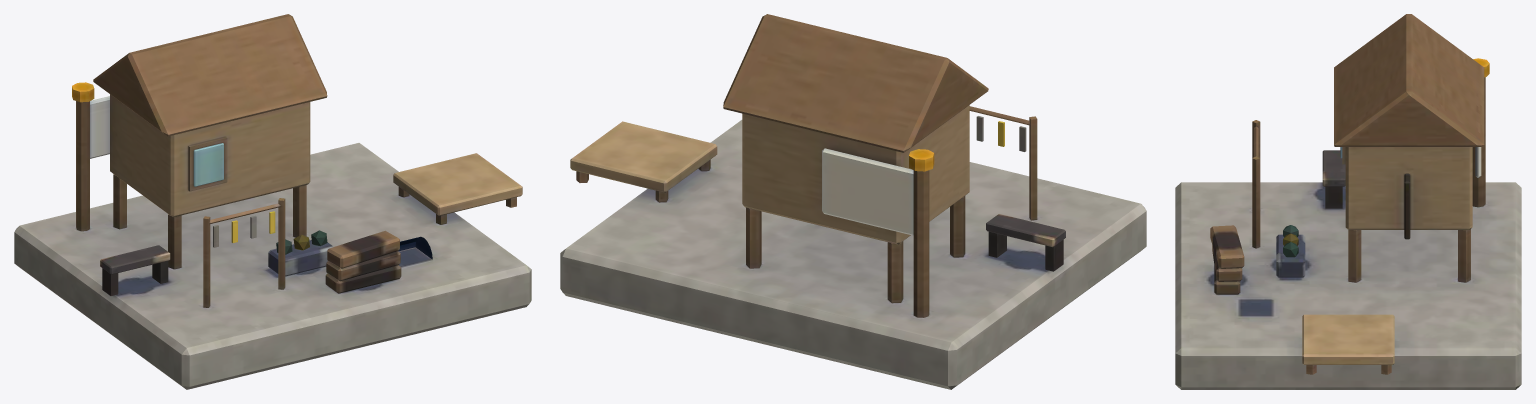
Rendered from fishery-5.glb.
The picture shows the model from 3 angles, left to right: view 1: azimuth 30°, elevation 25°; view 2: azimuth 150°, elevation 25°; view 3: azimuth 270°, elevation 25°; orthographic projection. The views are drawn at different scales.
Visible parts, largest first — view 1: fishery-5; view 2: fishery-5; view 3: fishery-5.
Part boxes in pixels (box(x1,y1,x2,y2)): fishery-5: box(14, 14, 531, 389); fishery-5: box(560, 14, 1146, 389); fishery-5: box(1175, 14, 1521, 389).
Size of the model in its own units: 1.61 by 0.9124 by 1.2.
Materials: 1 (1 with a texture image).
